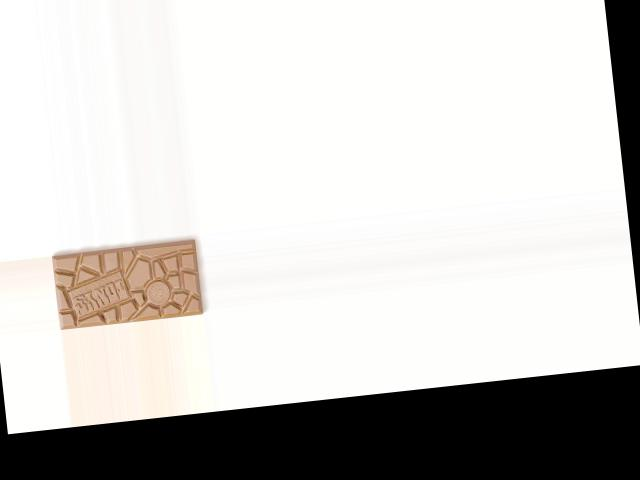chocolate: (50, 235, 204, 329)
